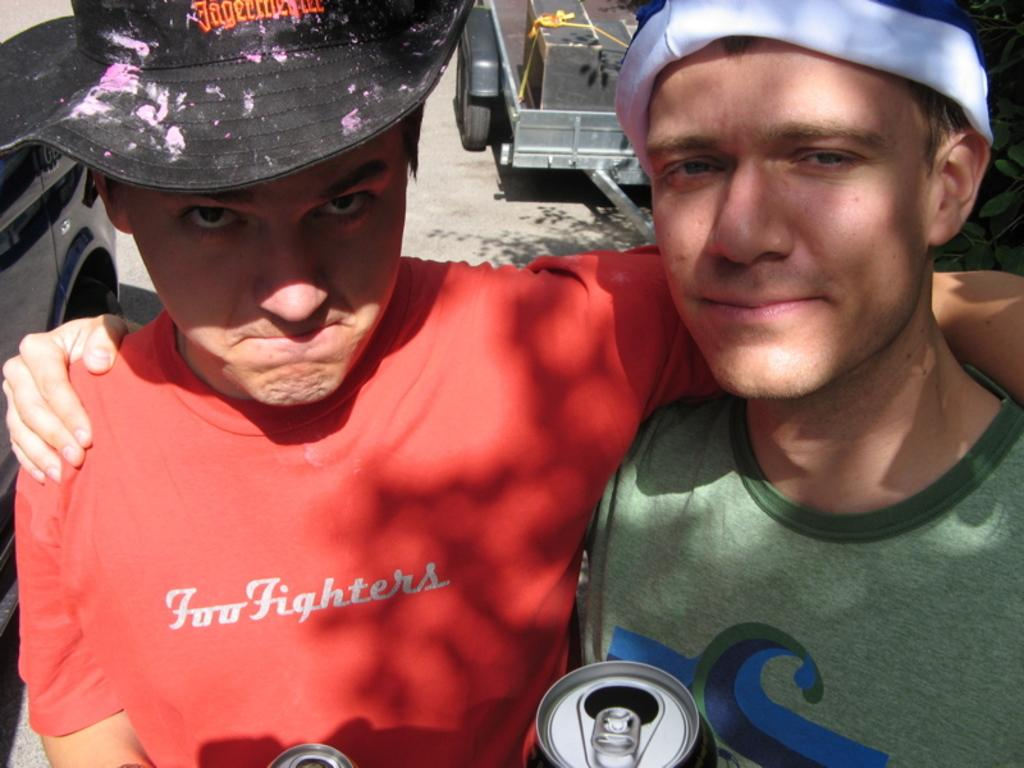Hat: (0, 0, 476, 202)
